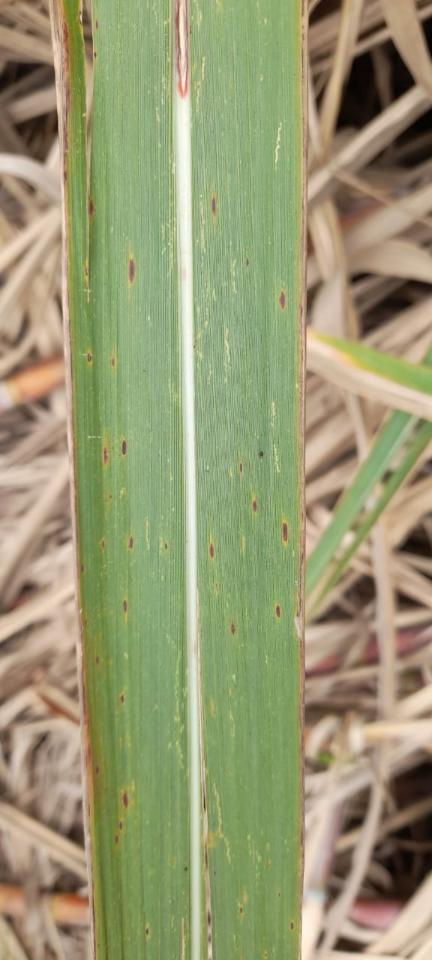RedRot: (173, 0, 191, 100)
Rust: (201, 733, 213, 959), (58, 0, 71, 190), (112, 821, 128, 843), (209, 188, 219, 219), (119, 789, 133, 811), (128, 254, 137, 285), (278, 283, 287, 314), (281, 516, 290, 546), (119, 438, 130, 458), (207, 540, 217, 560), (102, 444, 111, 466), (249, 501, 261, 514), (227, 622, 239, 635), (128, 533, 136, 552), (122, 598, 132, 613), (275, 602, 283, 619), (94, 764, 103, 779), (88, 198, 95, 217), (108, 356, 118, 369), (86, 349, 93, 365), (119, 692, 126, 707), (163, 540, 171, 553), (257, 449, 265, 460), (145, 926, 152, 938), (237, 461, 243, 474), (93, 655, 100, 666), (239, 905, 245, 917), (80, 561, 85, 575), (288, 921, 295, 931), (100, 539, 106, 549)
